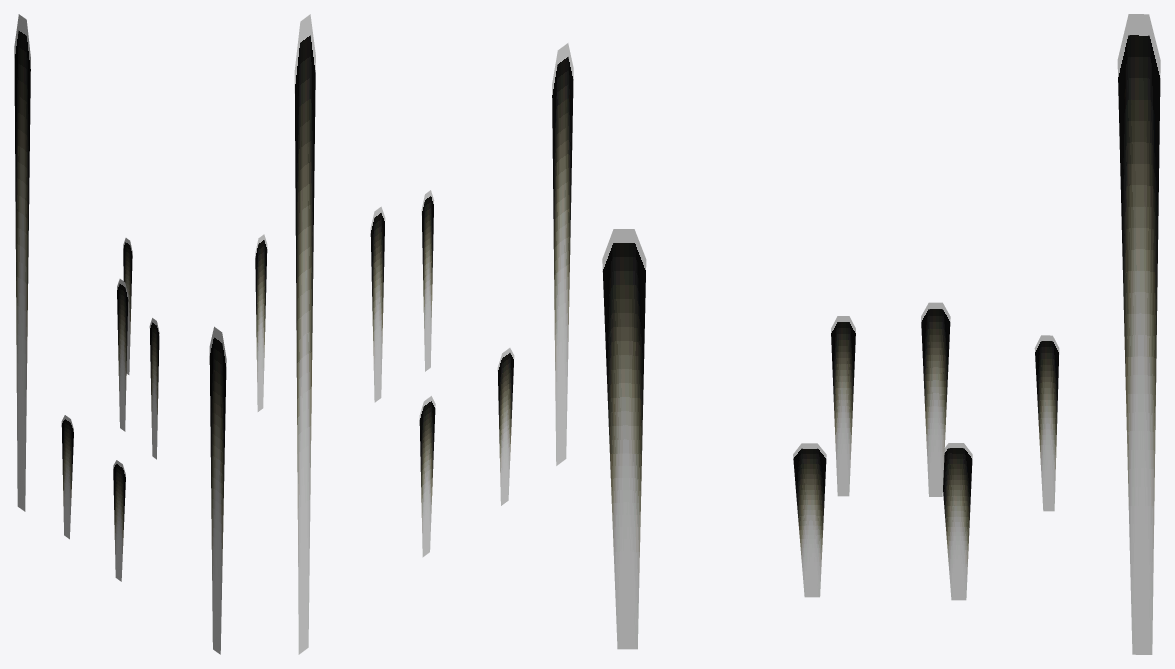
The model's file is stg110_MotSpotBb_13.obj.
3 views of the same model, side by side, from view 1: azimuth 30°, elevation 25°; view 2: azimuth 150°, elevation 25°; view 3: azimuth 270°, elevation 25° (orthographic). The views are drawn at different scales.
Parts seen in each view (by area): view 1: polygon4, polygon3, polygon5, polygon1, polygon2, polygon6, polygon0; view 2: polygon4, polygon3, polygon5, polygon1, polygon2, polygon6, polygon0; view 3: polygon4, polygon3, polygon5, polygon1, polygon2, polygon6, polygon0.
Boxes of the visible parts, left/top/right/bottom form: polygon4: left=14, top=14, right=30, bottom=511; polygon3: left=209, top=326, right=226, bottom=654; polygon5: left=117, top=279, right=128, bottom=431; polygon1: left=113, top=460, right=125, bottom=581; polygon2: left=61, top=415, right=73, bottom=539; polygon6: left=149, top=318, right=159, bottom=459; polygon0: left=123, top=238, right=132, bottom=374; polygon4: left=294, top=14, right=315, bottom=654; polygon3: left=552, top=43, right=573, bottom=465; polygon5: left=370, top=206, right=385, bottom=402; polygon1: left=497, top=348, right=514, bottom=505; polygon2: left=419, top=396, right=435, bottom=557; polygon6: left=421, top=190, right=434, bottom=371; polygon0: left=255, top=234, right=267, bottom=411; polygon4: left=1117, top=14, right=1160, bottom=654; polygon3: left=602, top=229, right=646, bottom=649; polygon5: left=921, top=302, right=950, bottom=496; polygon1: left=793, top=443, right=826, bottom=597; polygon2: left=943, top=443, right=972, bottom=600; polygon6: left=831, top=316, right=855, bottom=496; polygon0: left=1034, top=335, right=1059, bottom=511.
Size of the model in its own units: 204 by 965 by 762.
